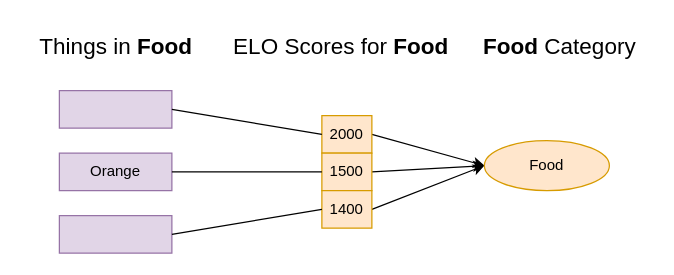
Image size: 674x275. Some labels were removed from this diagram. The shapes that lost their labels are listed below. From the top down, each one's centre as x and y in pixels, then its label:
At (115,108): "Apple".
At (115,233): "Rice".
